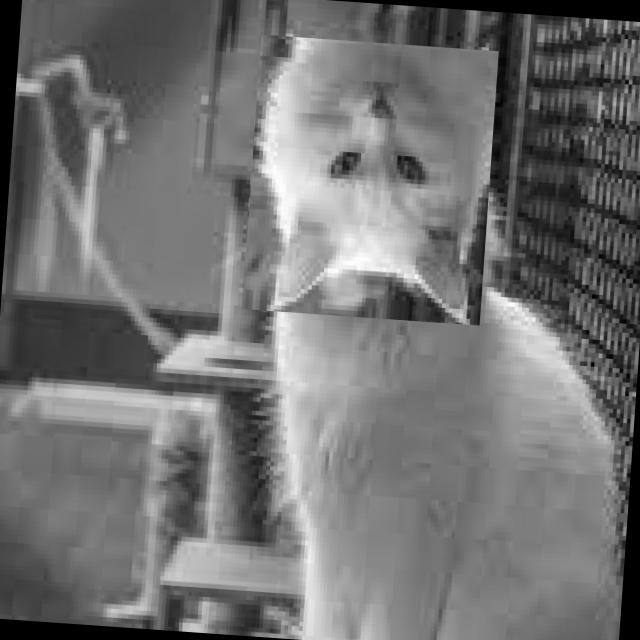van: (242, 34, 498, 325)
